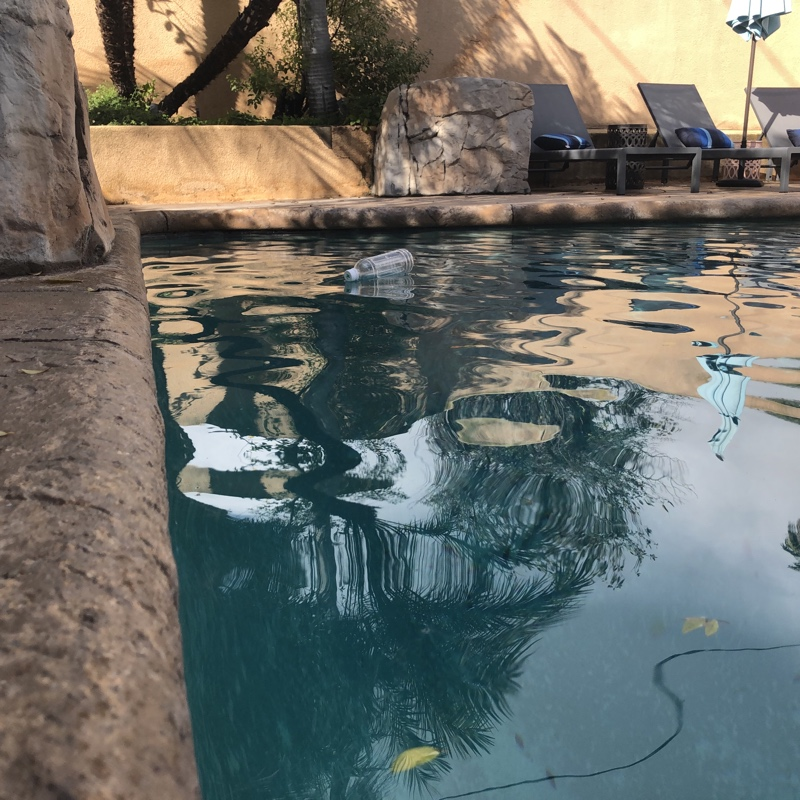Plastic Bottle: (341, 247, 416, 286)
